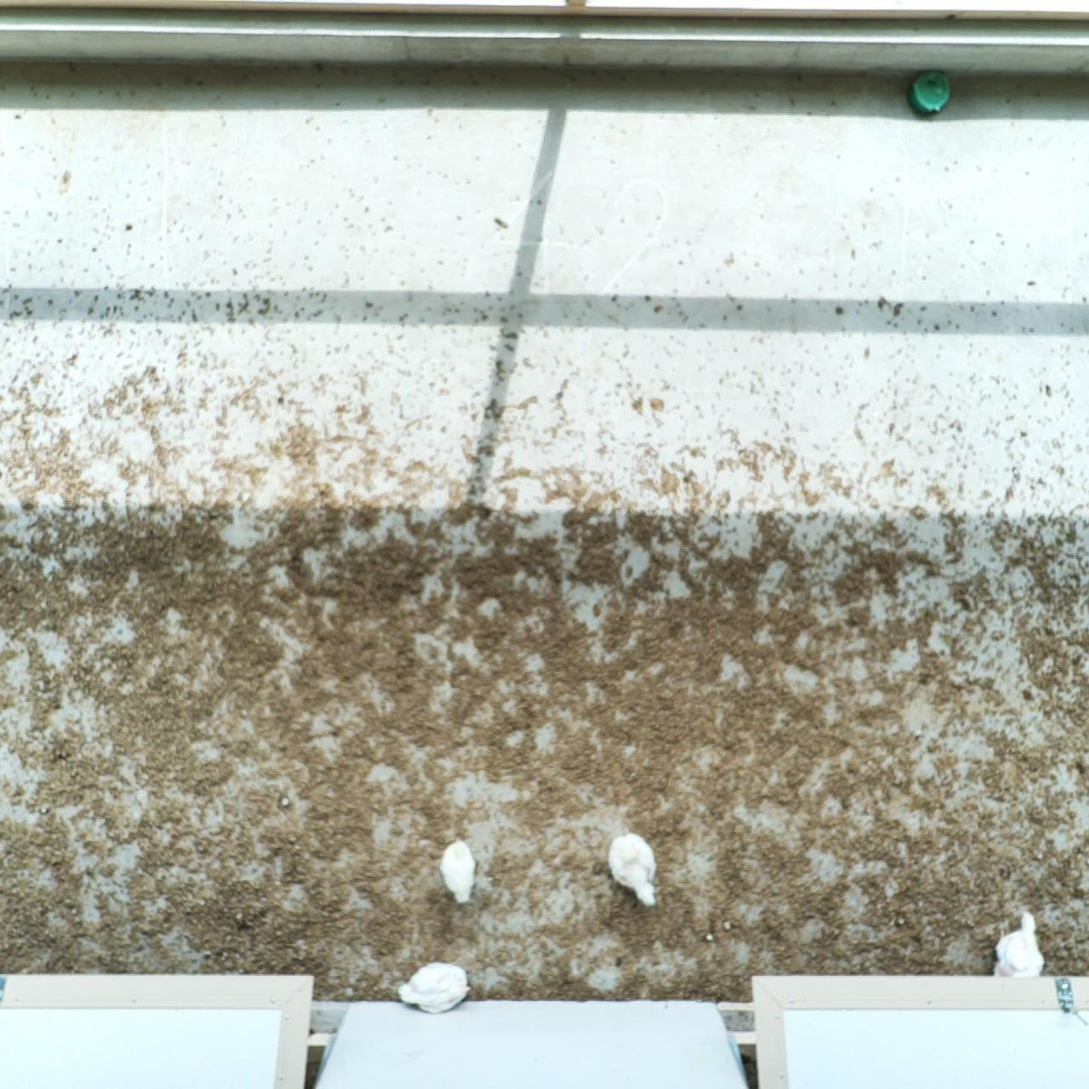chicken: (604, 823, 667, 911), (395, 959, 473, 1016), (990, 907, 1049, 981), (438, 834, 480, 906)
